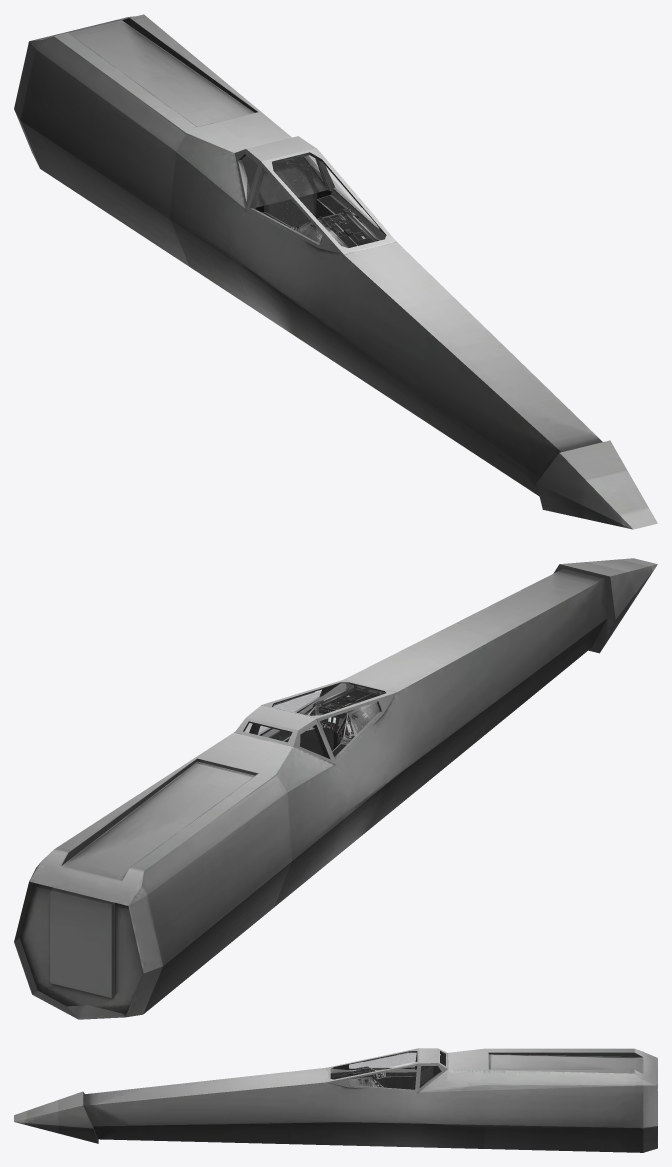
Rendered from fighter-cockpit.glb.
3 views of the same model, one above another, from view 1: azimuth 30°, elevation 25°; view 2: azimuth 150°, elevation 25°; view 3: azimuth 270°, elevation 25° (orthographic). The views are drawn at different scales.
Parts seen in each view (by area): view 1: hull_hull_0, windows_glass_0, canopy_canopy_front_0, console_console_0, canopy_back_canopy_back_0, cockpit_1_cockpit_0; view 2: hull_hull_0, windows_glass_0, console_console_0, canopy_back_canopy_back_0, canopy_canopy_front_0; view 3: hull_hull_0, windows_glass_0, canopy_canopy_front_0, console_console_0, canopy_back_canopy_back_0, cockpit_1_cockpit_0, cockpitrim_base_grey_0.
Part boxes in pixels (x1,y1,x2,y2): hull_hull_0: (14,14,657,529); windows_glass_0: (250,153,383,245); canopy_canopy_front_0: (247,148,396,254); console_console_0: (262,195,379,247); canopy_back_canopy_back_0: (234,136,328,209); cockpit_1_cockpit_0: (255,190,333,227); hull_hull_0: (14,558,657,1019); windows_glass_0: (244,683,384,758); console_console_0: (269,688,381,756); canopy_back_canopy_back_0: (234,705,334,763); canopy_canopy_front_0: (256,679,396,763); hull_hull_0: (14,1048,657,1152); windows_glass_0: (331,1051,445,1089); canopy_canopy_front_0: (327,1048,419,1092); console_console_0: (330,1068,416,1087); canopy_back_canopy_back_0: (417,1048,447,1092); cockpit_1_cockpit_0: (376,1076,415,1089); cockpitrim_base_grey_0: (330,1068,416,1085).
Bounding box in the file's own units: 2.12 × 2.19 × 14.58.
Materials: 18 (16 with a texture image).
